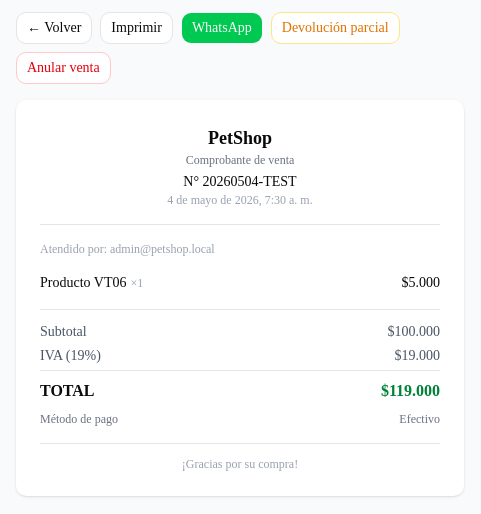
Scenario: SalesTicketPage — anulación de venta (VT-01 a VT-08) › VT-06: REGRESIÓN — anular venta actualiza data.estado a 'anulada' en cache vía setQueryData, no solo tras refetch
Expected: the text "Producto VT06" is shown, [40,275,126,290]
// Click "Anular venta" → confirmación
Click the button "Anular venta" at (63, 68), box [16,52,111,84]
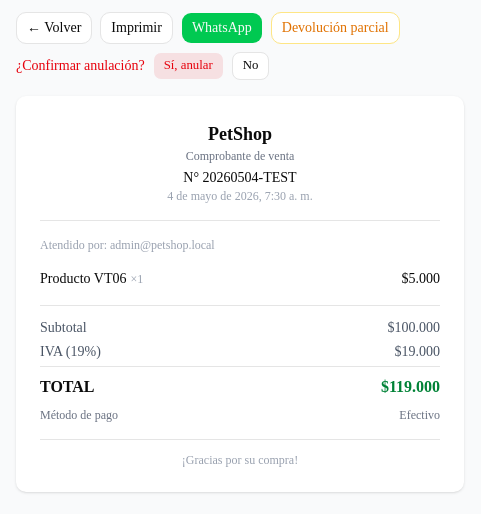
// Click "Sí, anular"
Click the button "Sí, anular" at (188, 66), box [153,52,224,80]
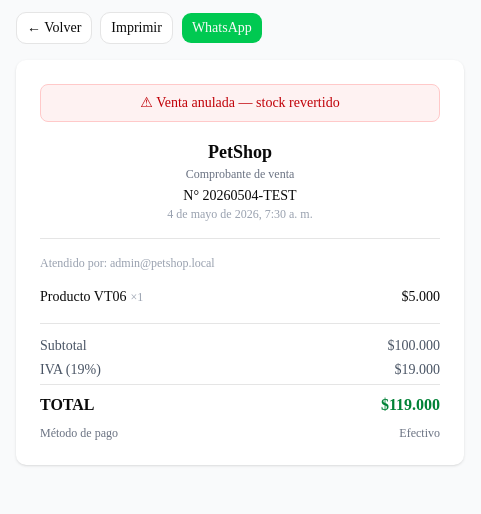
Expected: the button "Anular venta" is not shown
Now the text "⚠ Venta anulada — stock revertido" is shown, box [40,84,440,122]
Now the text "Gracias por su compra" is gone
